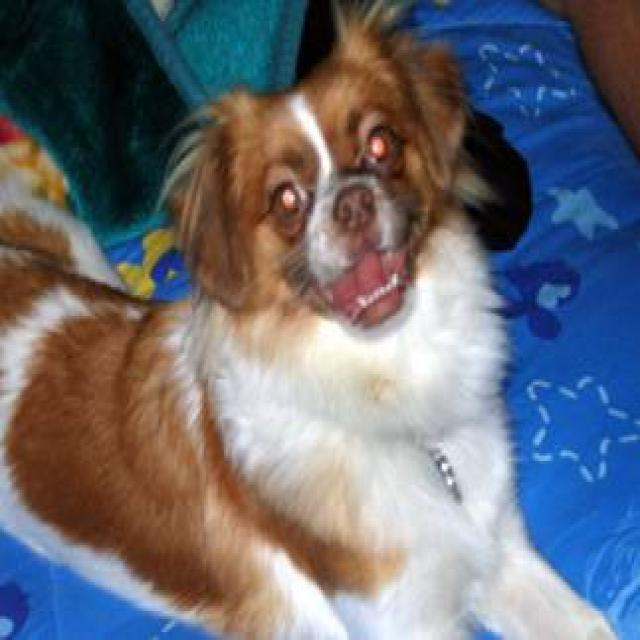dogs: (0, 10, 545, 640)
